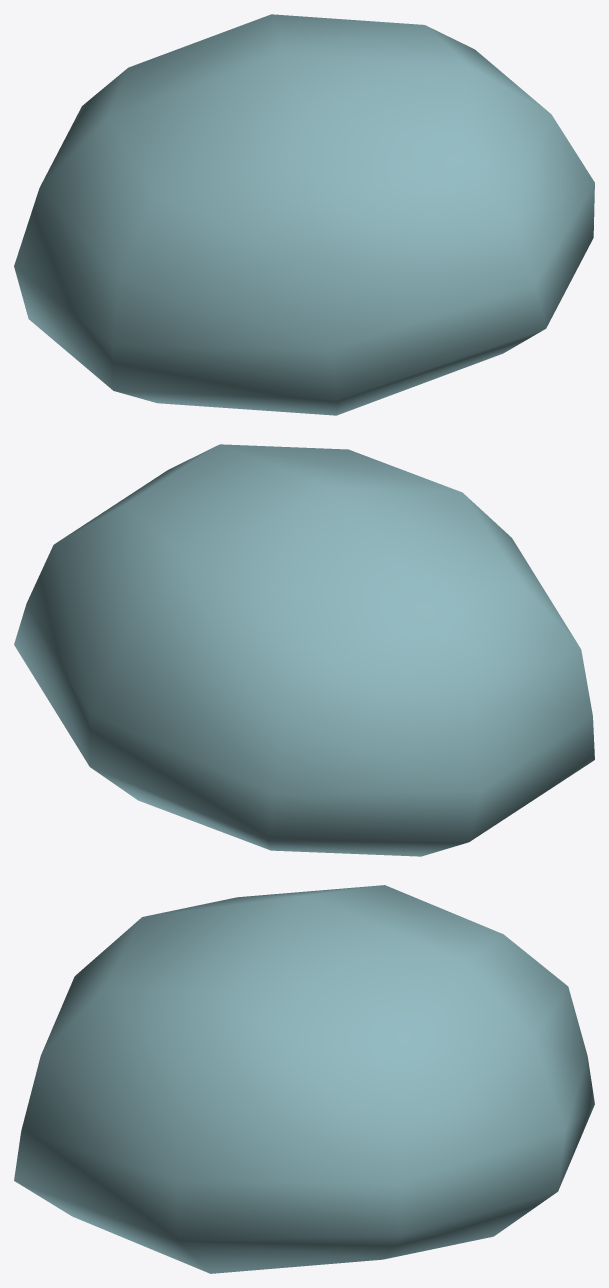
The model's file is dragonCube_005.fbx.
3 views of the same model, one above another, from view 1: azimuth 30°, elevation 25°; view 2: azimuth 150°, elevation 25°; view 3: azimuth 270°, elevation 25° (orthographic). The views are drawn at different scales.
Visible parts, largest first — view 1: Cube.005; view 2: Cube.005; view 3: Cube.005.
Boxes of the visible parts, x1=… form: Cube.005: x1=14, y1=14, x2=594, y2=415; Cube.005: x1=14, y1=444, x2=594, y2=856; Cube.005: x1=14, y1=885, x2=594, y2=1273.
Bounding box in the file's own units: 534 × 341 × 520.
